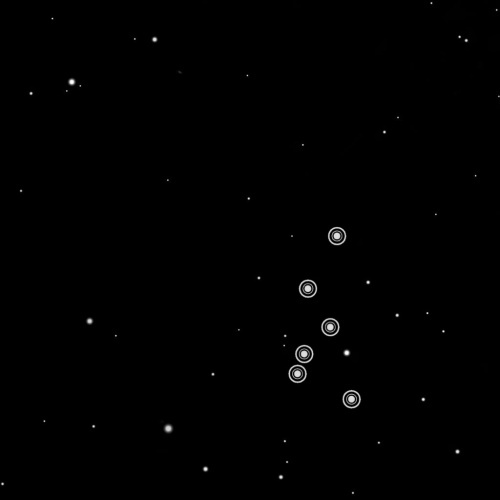cassiopeia: (283, 223, 365, 413)
